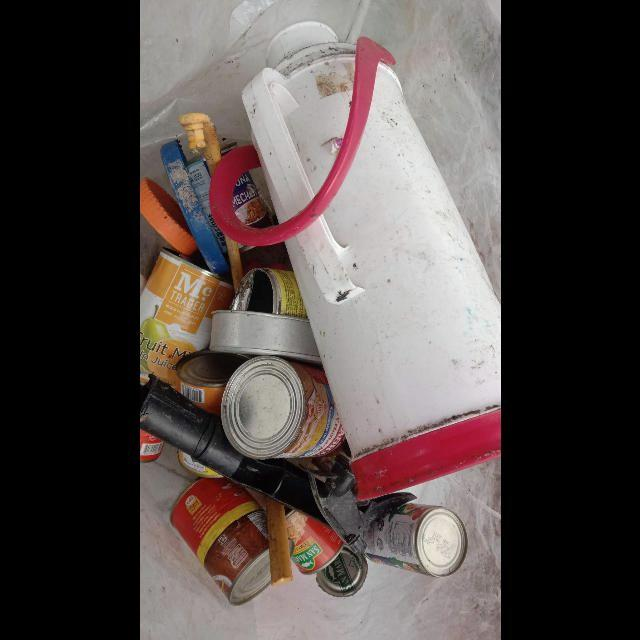aluminum: (139, 247, 234, 393), (169, 477, 270, 607), (220, 356, 345, 461), (364, 503, 468, 578), (284, 507, 367, 597), (207, 310, 322, 366), (173, 350, 250, 418), (229, 268, 307, 319), (177, 451, 221, 478)
